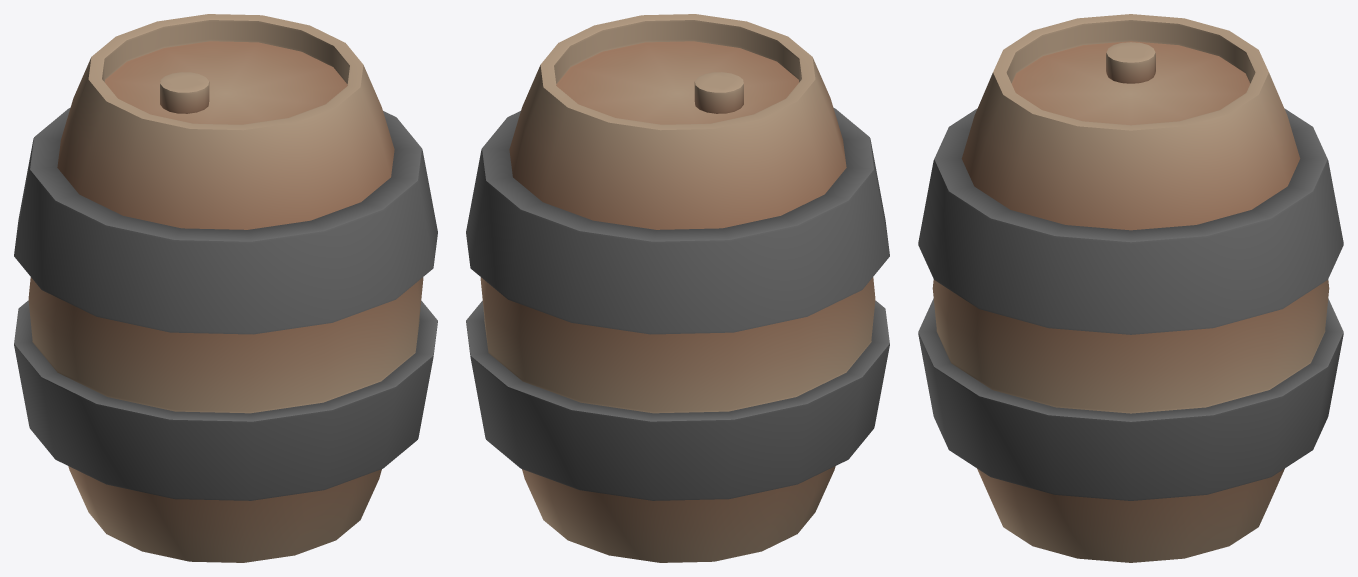
The model's file is WoodenBarrel.fbx.
3 views of the same model, side by side, from view 1: azimuth 30°, elevation 25°; view 2: azimuth 150°, elevation 25°; view 3: azimuth 270°, elevation 25° (orthographic).
Visible parts, largest first — view 1: Cube; view 2: Cube; view 3: Cube.
Boxes of the visible parts, <box> form: Cube: <box>14,14,437,562</box>; Cube: <box>466,14,889,562</box>; Cube: <box>918,14,1343,562</box>.
Bounding box in the file's own units: 178 × 200 × 178.
